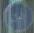bike lane: (1, 1, 32, 32)
